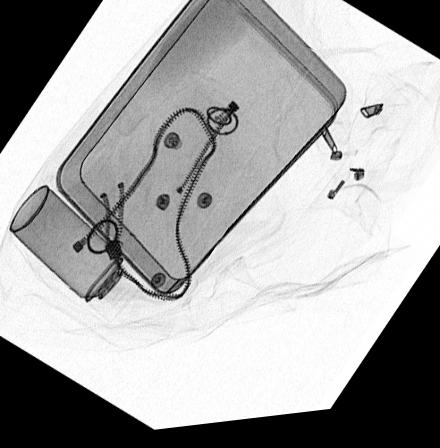Sprayer: (6, 183, 149, 327)
